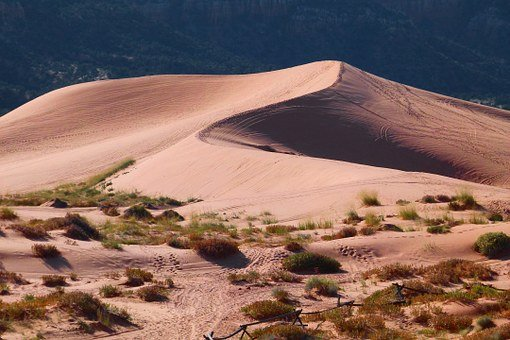desert: (17, 73, 510, 323)
field: (5, 206, 505, 340)
